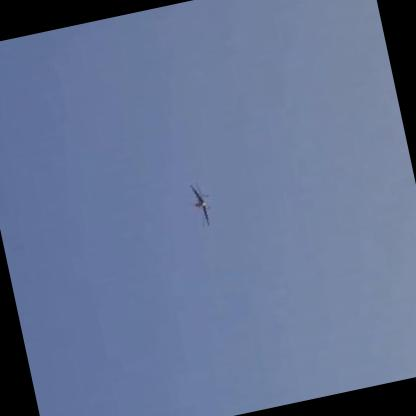plane: (185, 176, 217, 229)
